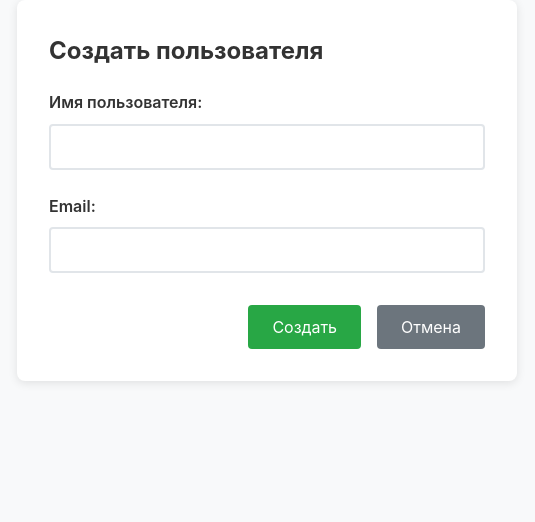
Test case: UserForm › validates required fields
Click the button with test id "submit-btn": (305, 328) left=248, top=306, right=361, bottom=350
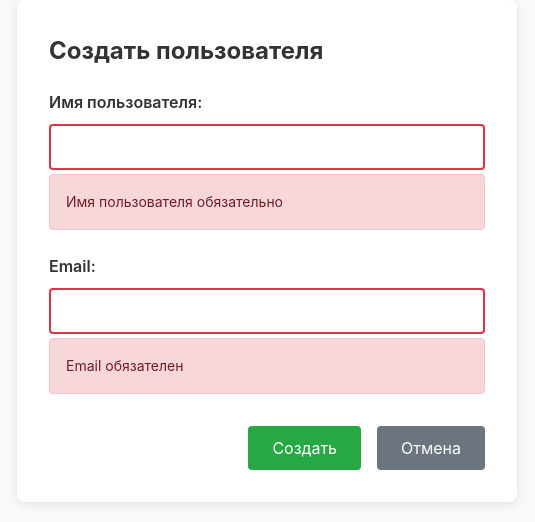
Expected: the text with test id "username-error" reads "Имя пользователя обязательно", left=66, top=193, right=283, bottom=210
Expected: the text with test id "email-error" reads "Email обязателен", left=66, top=357, right=183, bottom=374
